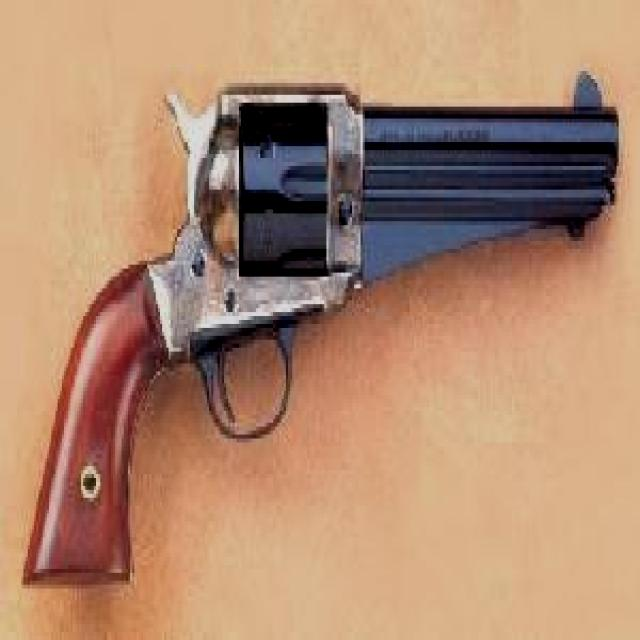pistol: (19, 55, 621, 585)
